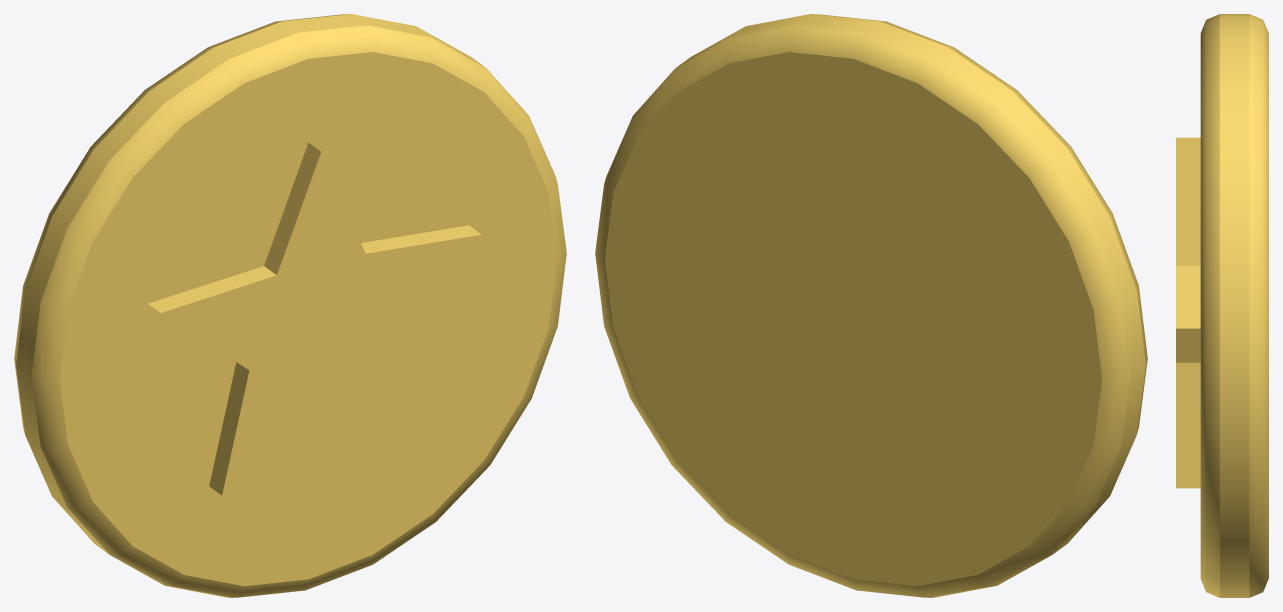
File: coin_v2.glb
3 renders of one model, left to right at view 1: azimuth 30°, elevation 25°; view 2: azimuth 150°, elevation 25°; view 3: azimuth 270°, elevation 25°, orthographic. The views are drawn at different scales.
Parts seen in each view (by area): view 1: Coin; view 2: Coin; view 3: Coin.
Boxes of the visible parts, bbox=[...] form: Coin: bbox=[14, 14, 566, 597]; Coin: bbox=[595, 14, 1147, 597]; Coin: bbox=[1176, 14, 1268, 597].
Bounding box in the file's own units: 1.2 × 1.2 × 0.19.
